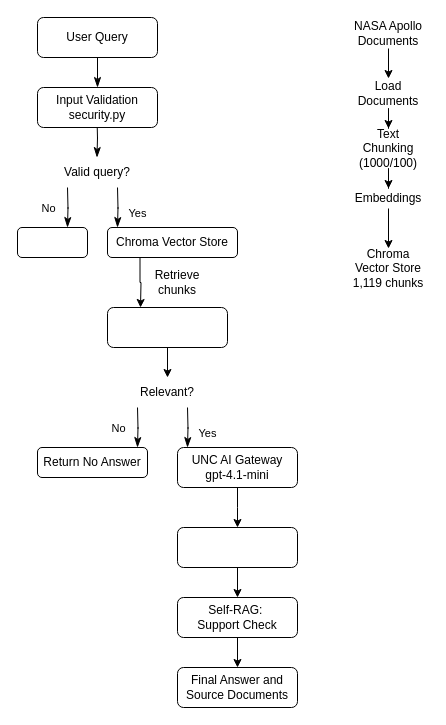
Image size: 446x725. Some labels were removed from this diagram. The shapes that lost their labels are listed below. From the top down, each one's box as (x1, y1, x2, y2) in pixels, then its label:
(16, 226, 88, 258): Block
(106, 306, 228, 348): Self-RAG: Relevance Check
(176, 526, 298, 568): Generate Answer
